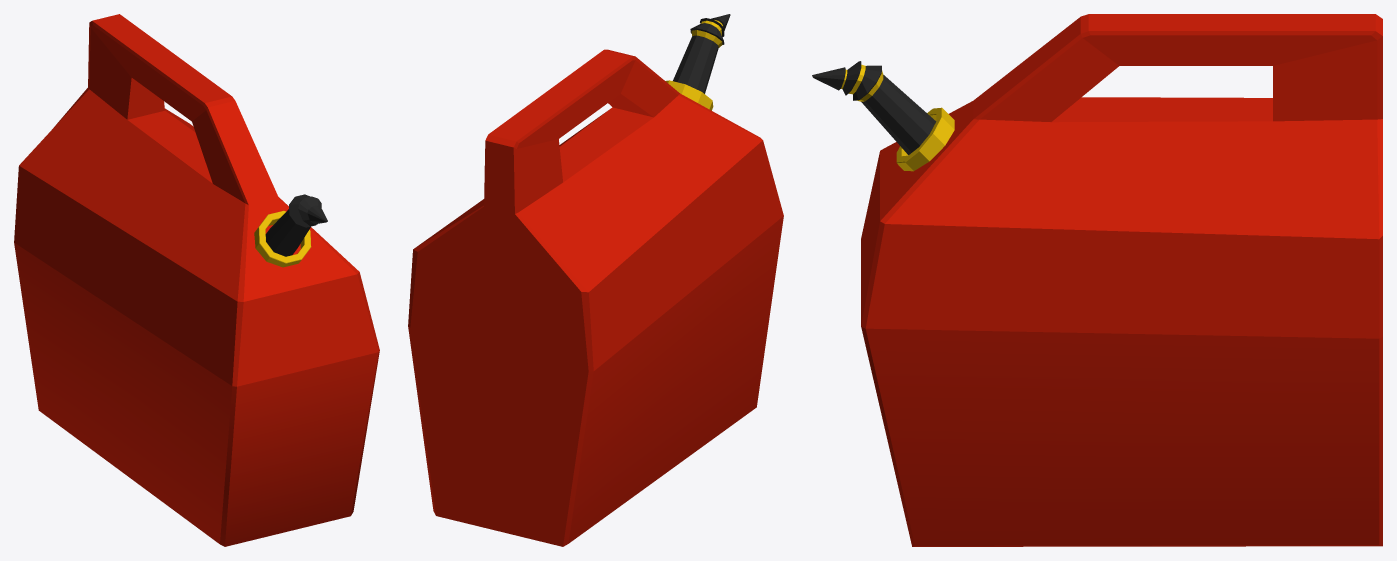
Rendered from fuel_tank.fbx.
3 views of the same model, side by side, from view 1: azimuth 30°, elevation 25°; view 2: azimuth 150°, elevation 25°; view 3: azimuth 270°, elevation 25° (orthographic). The views are drawn at different scales.
Parts seen in each view (by area): view 1: fuel_tank; view 2: fuel_tank; view 3: fuel_tank.
Boxes of the visible parts, x1,y1,x2,y2 form: fuel_tank: [14, 14, 379, 546]; fuel_tank: [408, 14, 783, 546]; fuel_tank: [812, 14, 1382, 546].
Size of the model in its own units: 0.4223 by 0.8505 by 0.9067.
